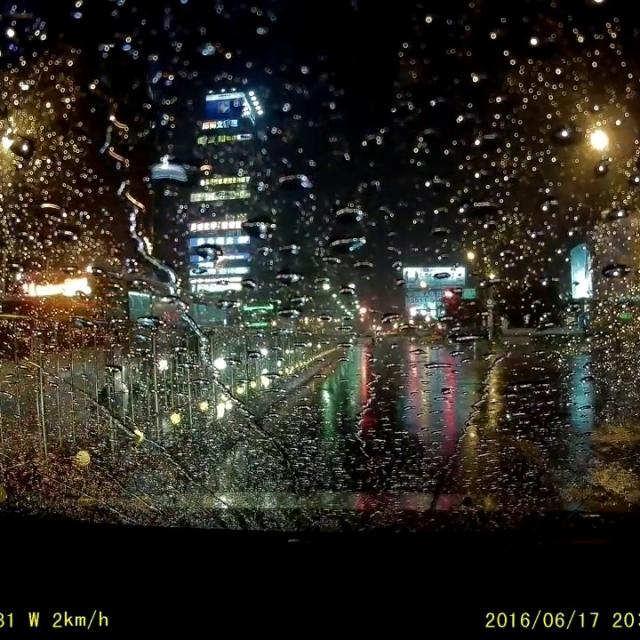Car: (442, 296, 493, 338)
